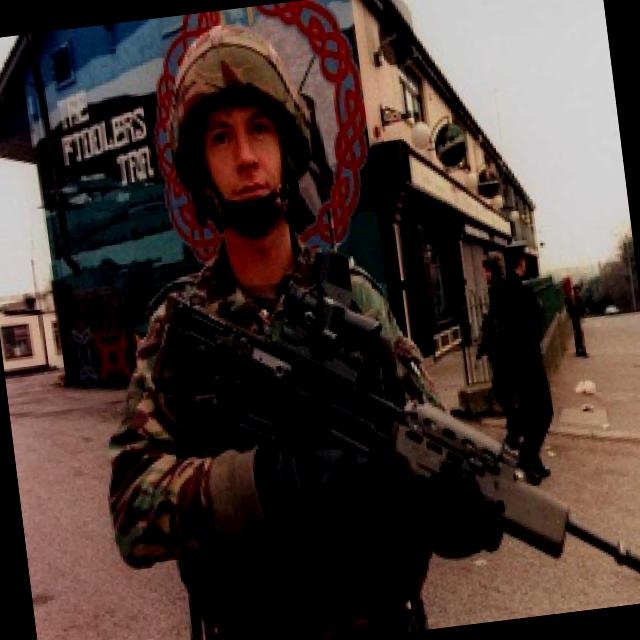long weapon: (133, 214, 639, 639)
